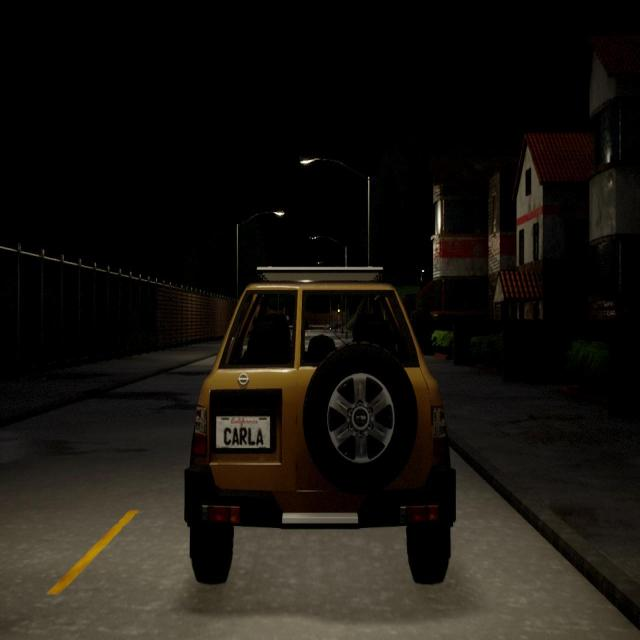Traffic_Signs: (286, 314, 290, 321)
Vehicle: (184, 267, 456, 583)
traffic_light: (337, 306, 341, 316)
